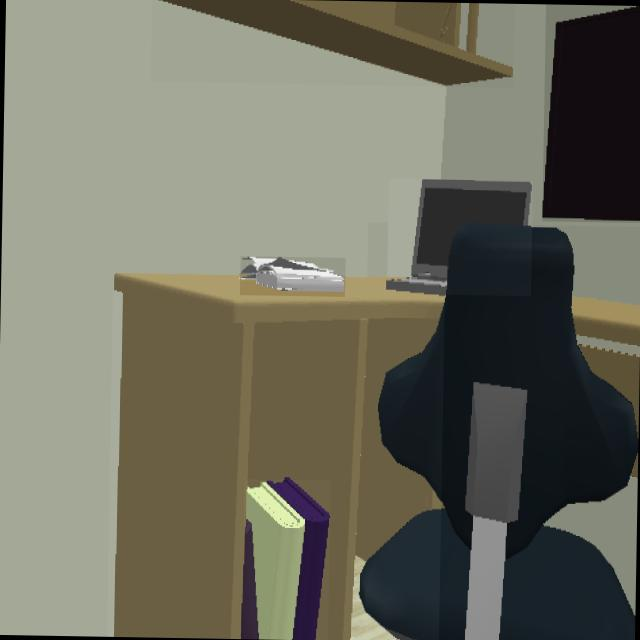book: (243, 479, 330, 640), (240, 256, 345, 295)
chair: (361, 224, 638, 640)
laptop: (387, 179, 532, 294)
monitor: (542, 6, 640, 223)
shelf: (161, 0, 513, 86)
table: (113, 273, 443, 640), (573, 299, 640, 428)
